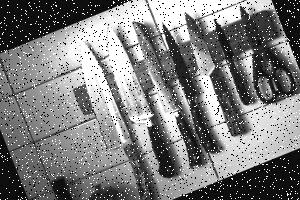knife: (69, 36, 164, 198), (100, 22, 184, 178), (126, 14, 203, 166), (173, 0, 246, 143), (152, 11, 224, 154), (202, 11, 252, 106)
